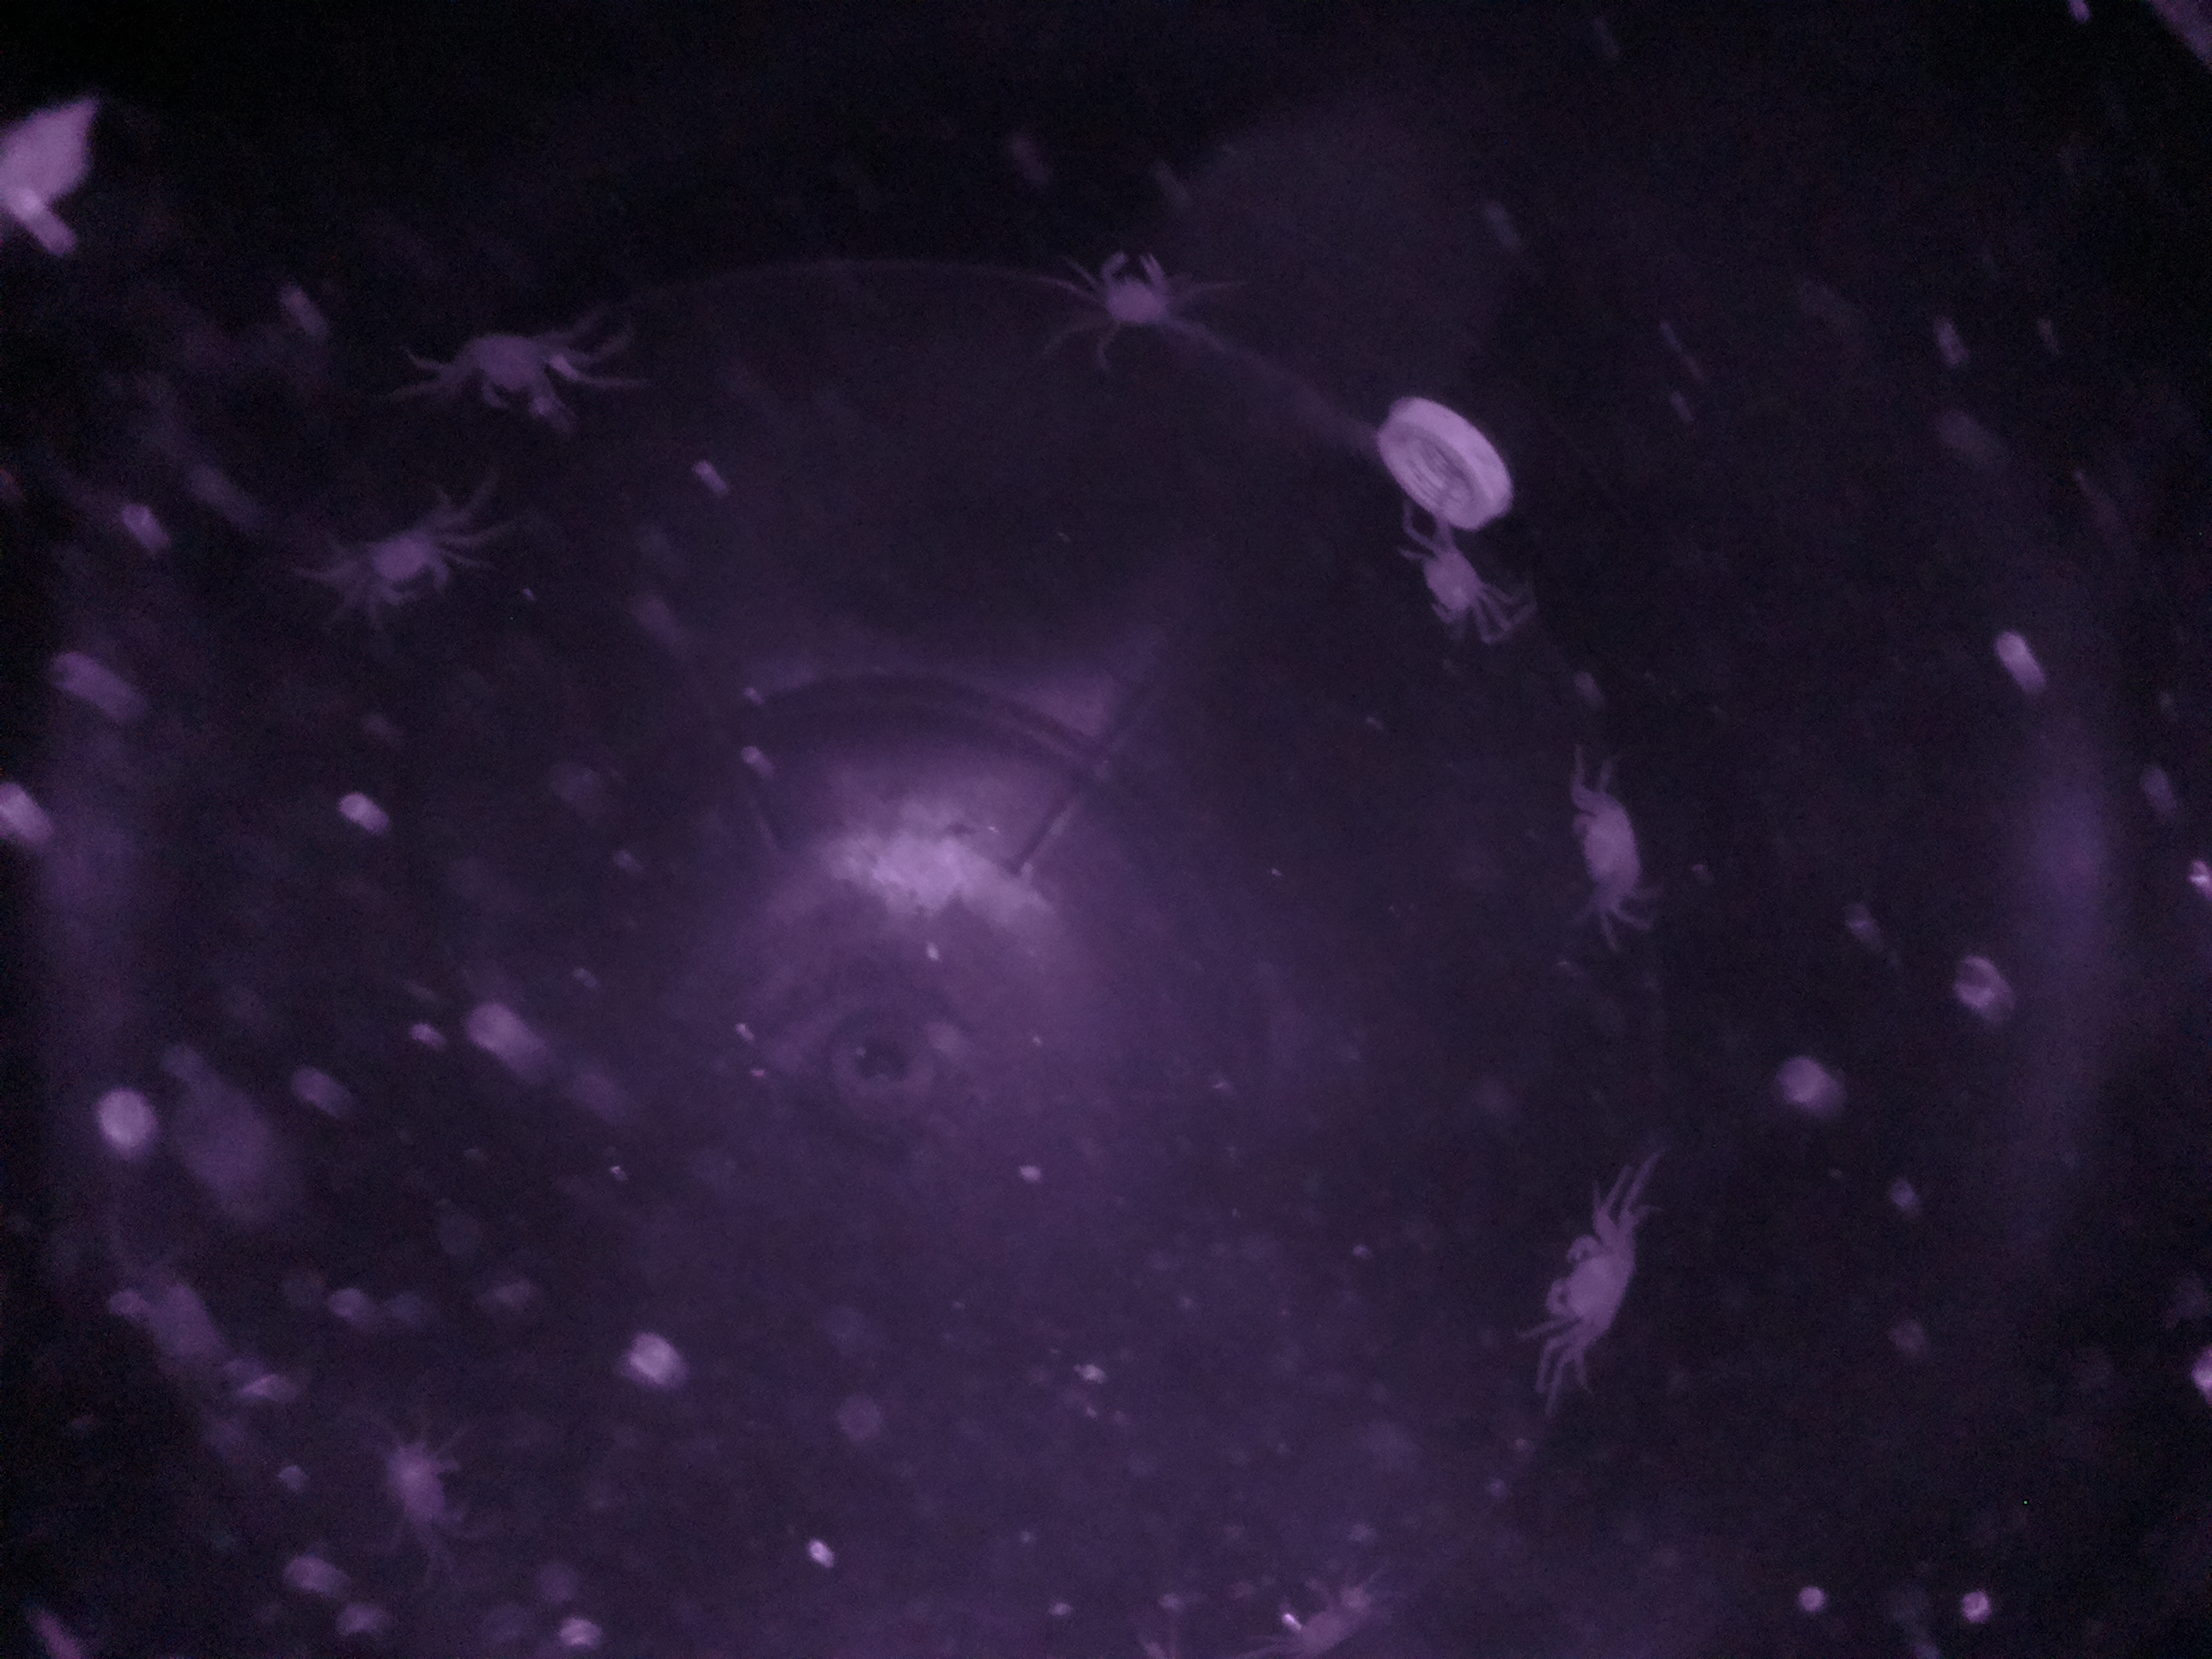Crab: (1548, 775, 1689, 922), (1522, 1211, 1651, 1359), (455, 305, 585, 432), (347, 502, 465, 636), (1397, 511, 1507, 641), (1078, 239, 1190, 350)
